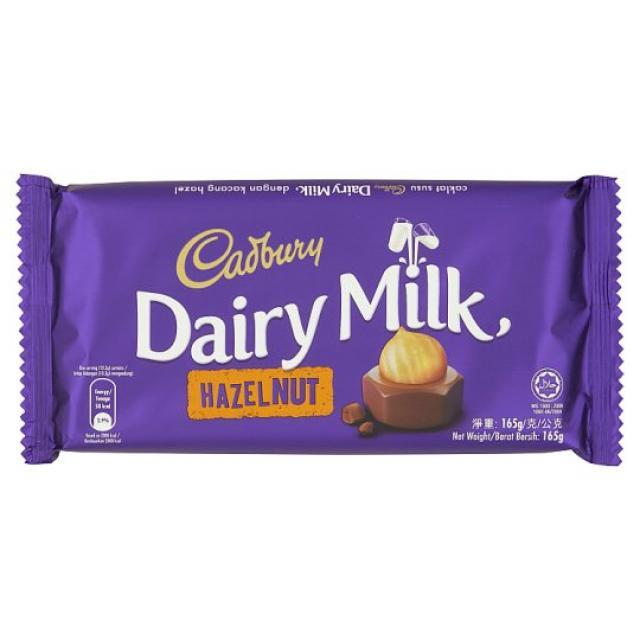cadbury_chocolate: (42, 175, 610, 488)
